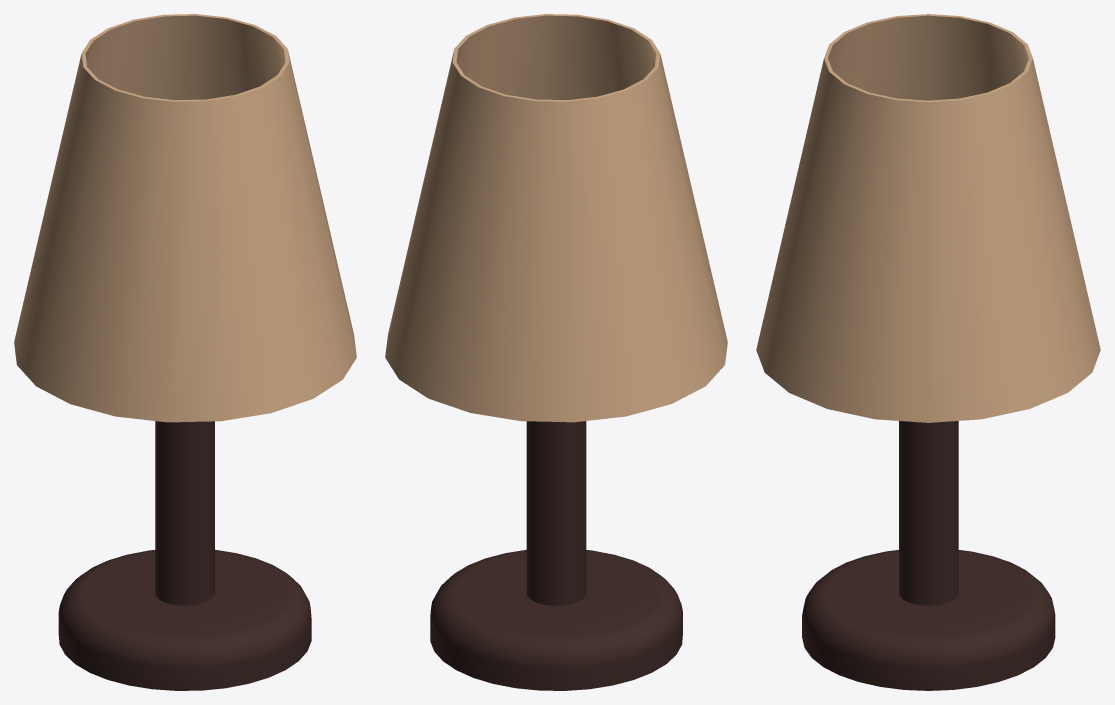
The model's file is LampeChevet3_7.fbx.
The picture shows the model from 3 angles, left to right: view 1: azimuth 30°, elevation 25°; view 2: azimuth 150°, elevation 25°; view 3: azimuth 270°, elevation 25°; orthographic projection.
Visible parts, largest first — view 1: pPipe110, pCylinder764; view 2: pPipe110, pCylinder764; view 3: pPipe110, pCylinder764.
Part boxes in pixels (box(x1,y1,x2,y2)): pPipe110: box(14, 14, 356, 422); pCylinder764: box(58, 421, 311, 690); pPipe110: box(385, 14, 727, 422); pCylinder764: box(430, 421, 682, 690); pPipe110: box(756, 14, 1100, 422); pCylinder764: box(802, 421, 1055, 690).
Size of the model in its own units: 13.33 by 24.73 by 13.33.
